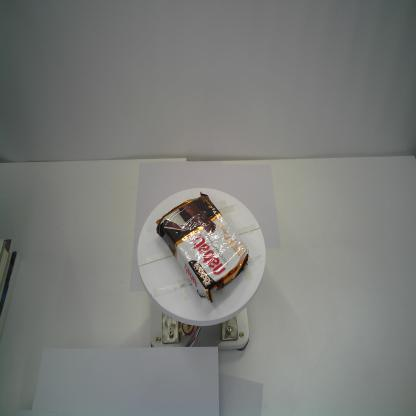Dessert: (155, 189, 249, 305)
